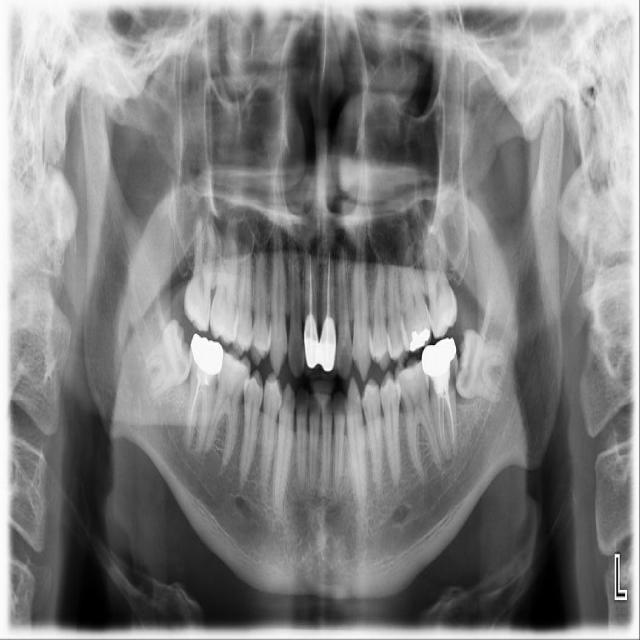52: (183, 332, 228, 390), (419, 336, 463, 393), (399, 300, 434, 356), (301, 313, 320, 380), (320, 316, 338, 380)
73: (184, 377, 218, 453), (430, 388, 459, 463), (321, 247, 337, 337), (305, 249, 318, 333), (574, 544, 588, 547)
BioHorizons Implant: (422, 228, 460, 339)
Biomet 3i Implant: (451, 327, 508, 405)
Blue Sky Bio Implant: (419, 336, 469, 464)
Caries: (182, 213, 218, 333)
Implant: (185, 333, 225, 453)
Keystone Dental Implant: (128, 315, 211, 409)
